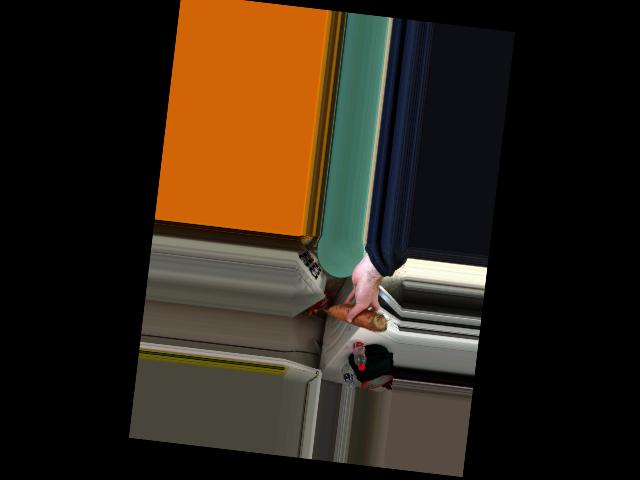sweet_potato: (324, 304, 389, 328)
